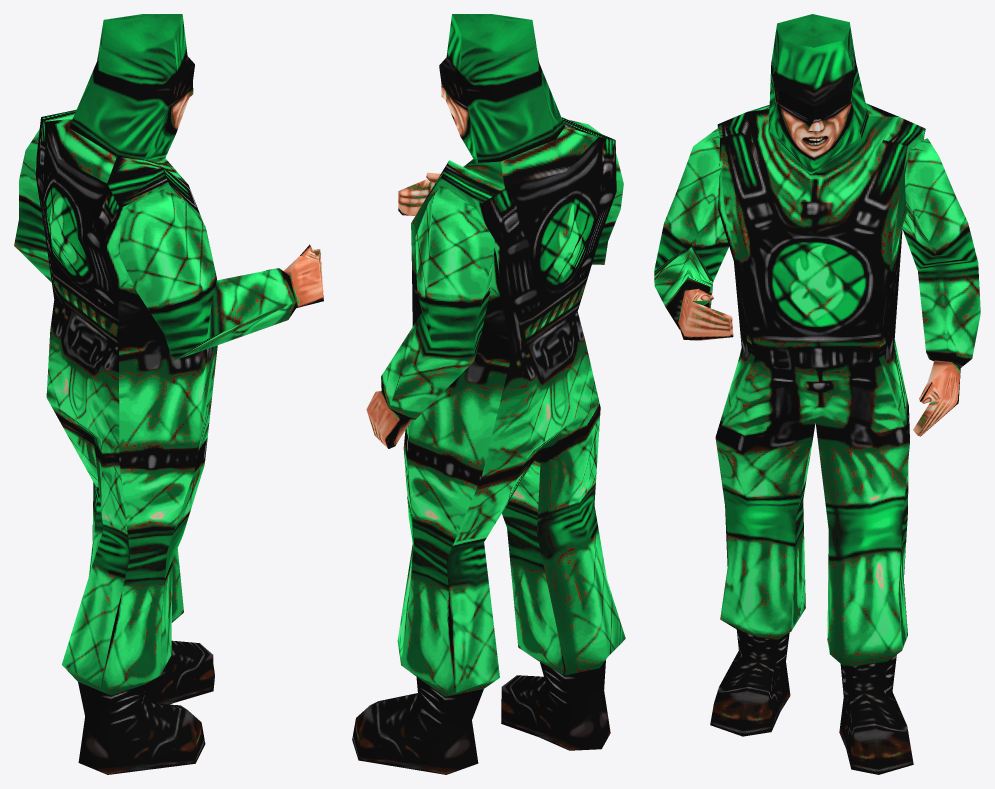
The model's file is pyro2_green.glb.
3 renders of one model, left to right at view 1: azimuth 30°, elevation 25°; view 2: azimuth 150°, elevation 25°; view 3: azimuth 270°, elevation 25°, orthographic. The views are drawn at different scales.
Parts seen in each view (by area): view 1: pyro2; view 2: pyro2; view 3: pyro2.
Boxes of the visible parts, bbox=[...] form: pyro2: bbox=[14, 14, 323, 774]; pyro2: bbox=[352, 14, 625, 774]; pyro2: bbox=[654, 14, 980, 774].
Bounding box in the file's own units: 24.98 × 73.11 × 30.72.
2 materials, 2 textured.
